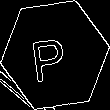P_N: (34, 27, 76, 83)
